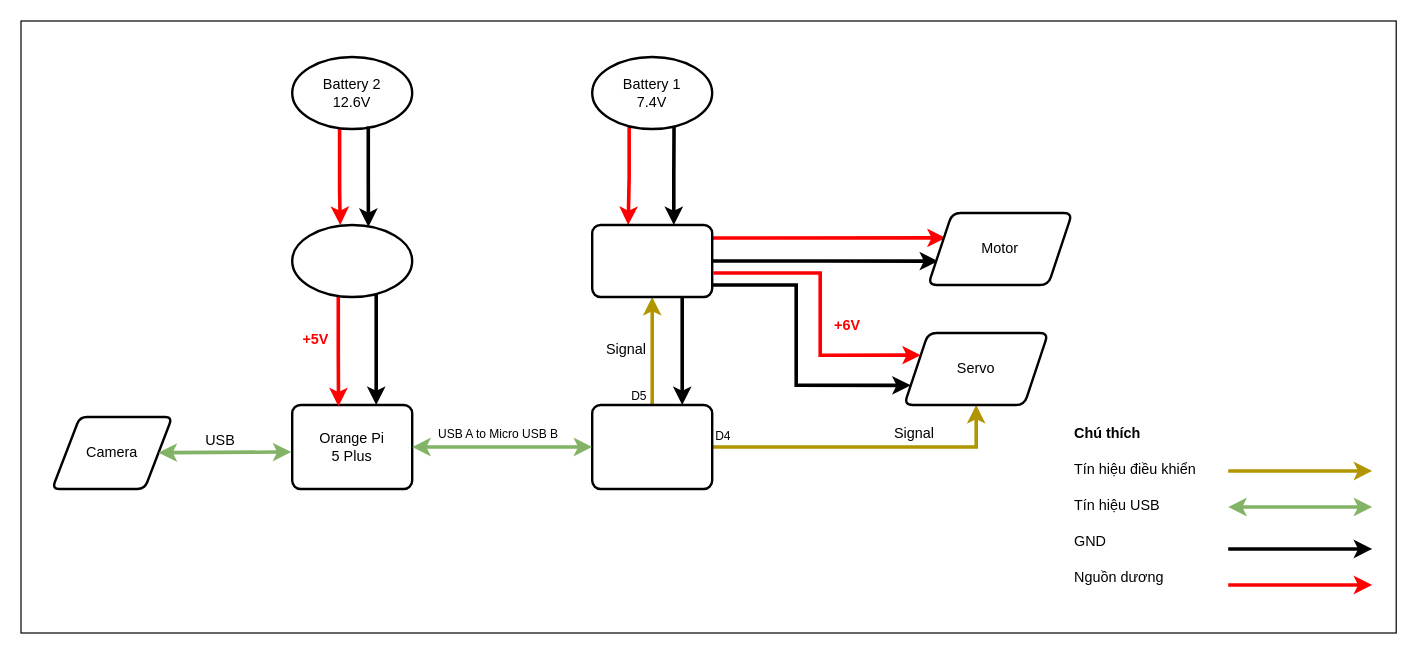
The diagram is 1417 pixels wide and 654 high, and some of its shapes have lost their labels. Each missing label, with the box of its shape:
Controller ( STM32): (590, 403, 713, 490)
ESC: (590, 223, 713, 298)
Giảm áp 5V: (290, 223, 413, 298)
